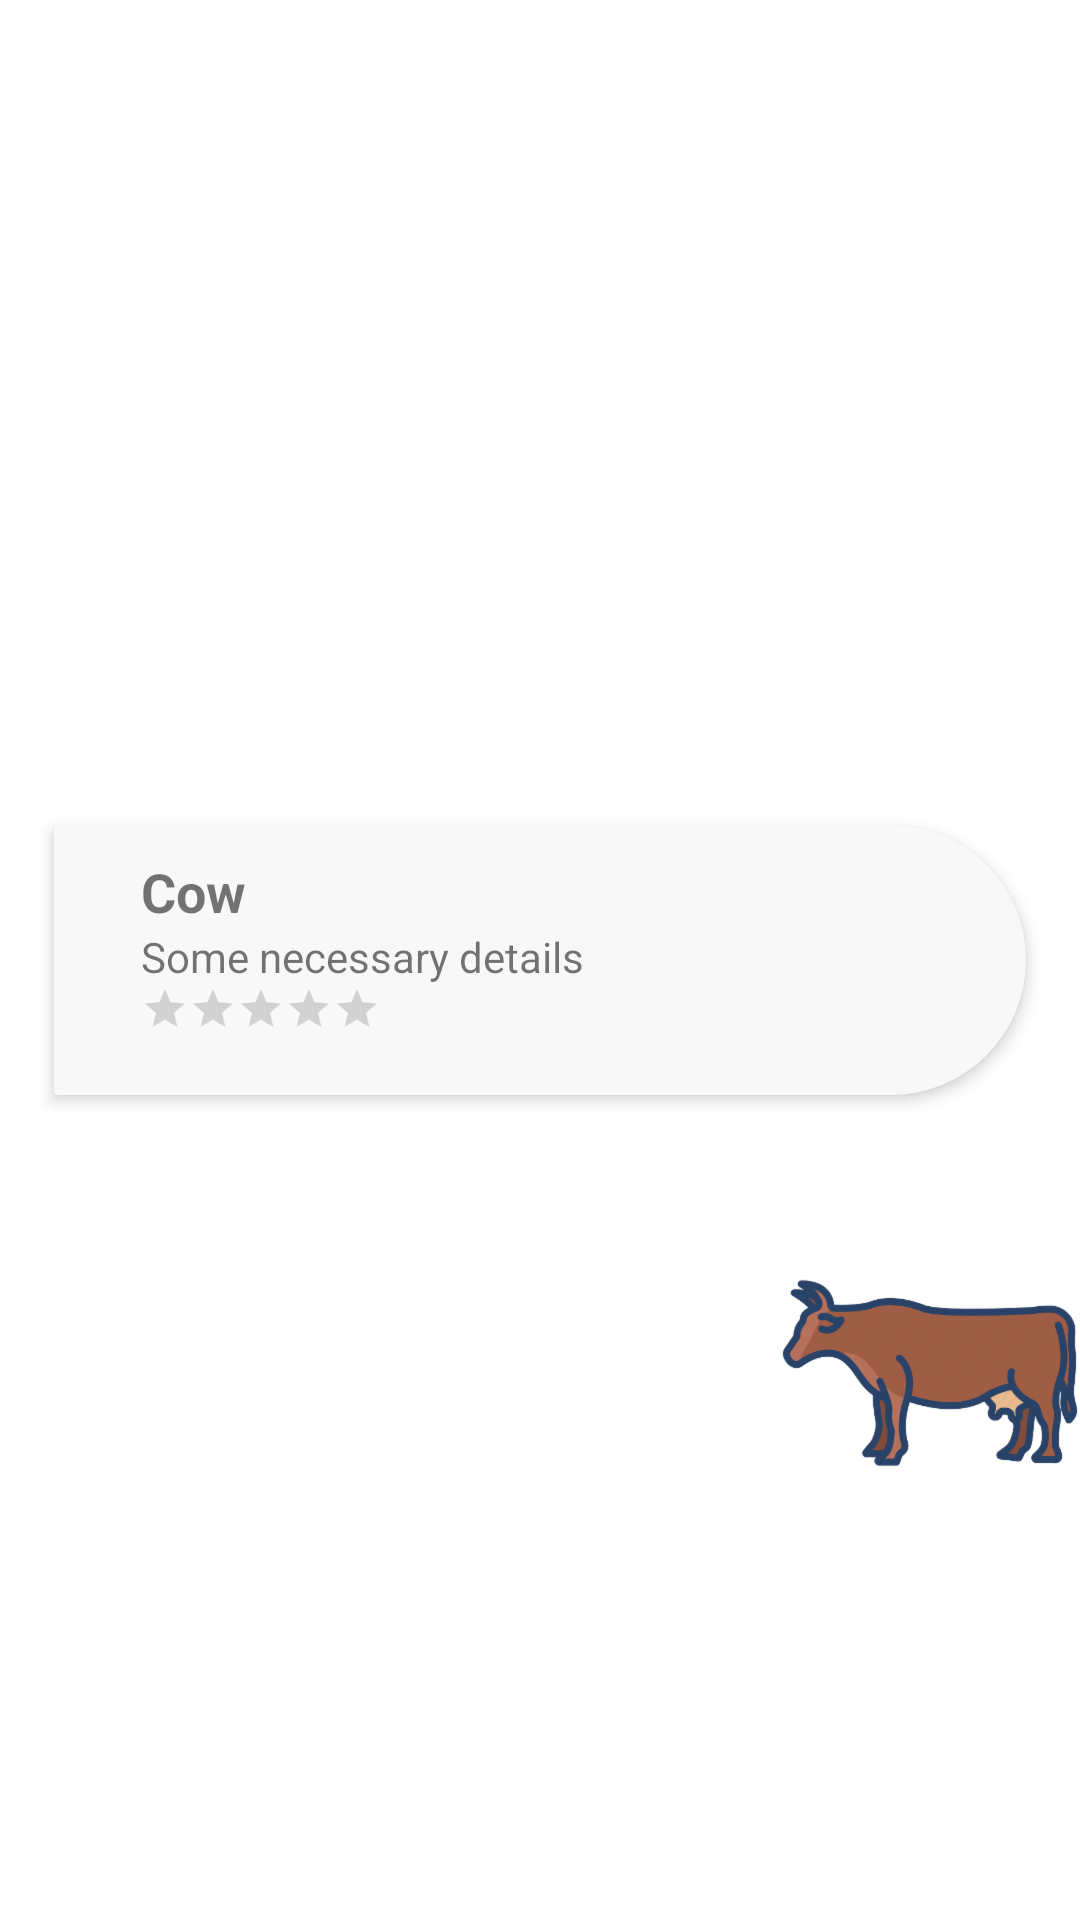

Icons on this 1080px x 1920px Android screen, each with its box as (x1, y1, x2, y2):
cow: (783, 1280, 1077, 1466)
